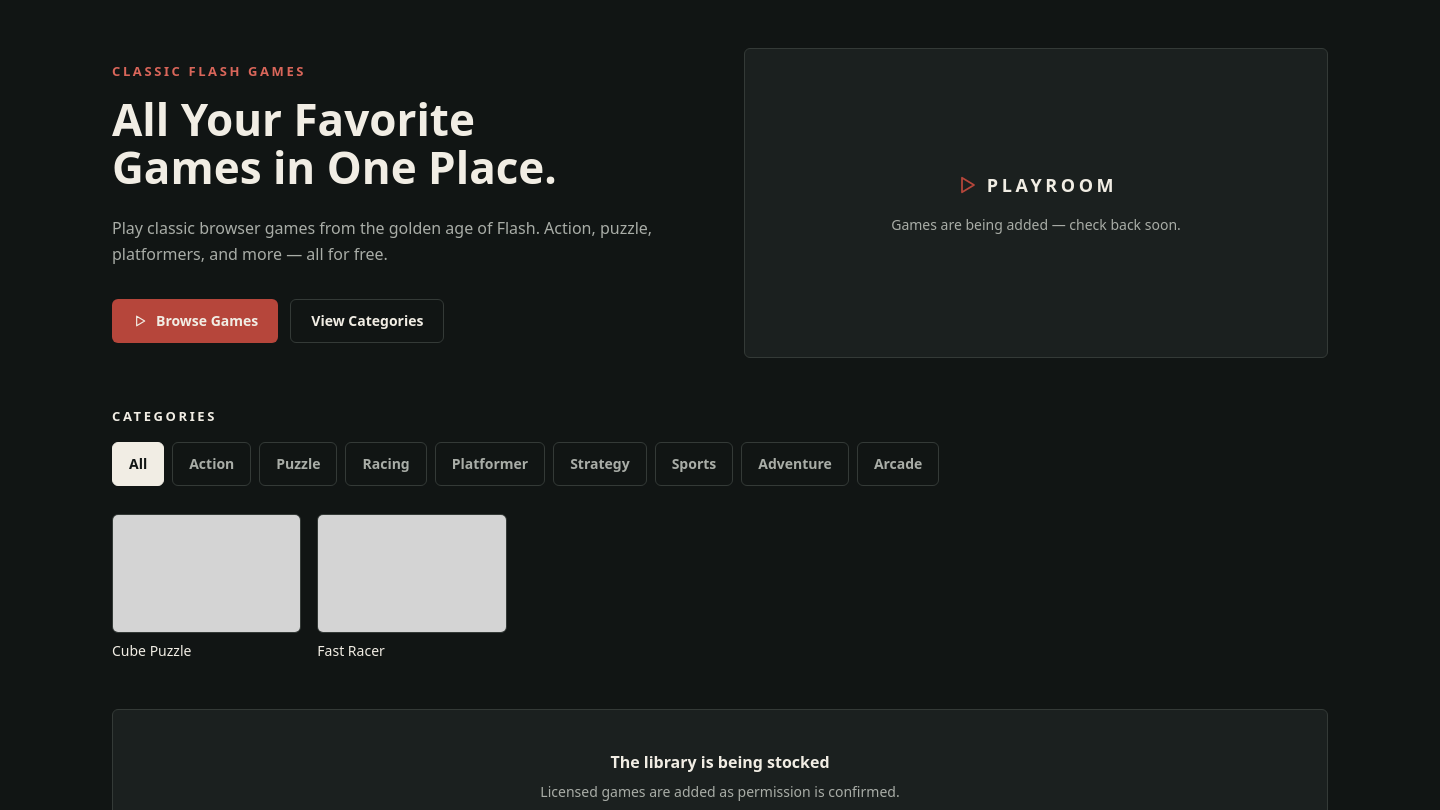
Test: HomePage › shows the selected category's games under the filter
What coordinates should you click on to do the following:
click the radio button labelled "Puzzle"
I would click on:
 (298, 464)
Its box is [259,442,338,486].
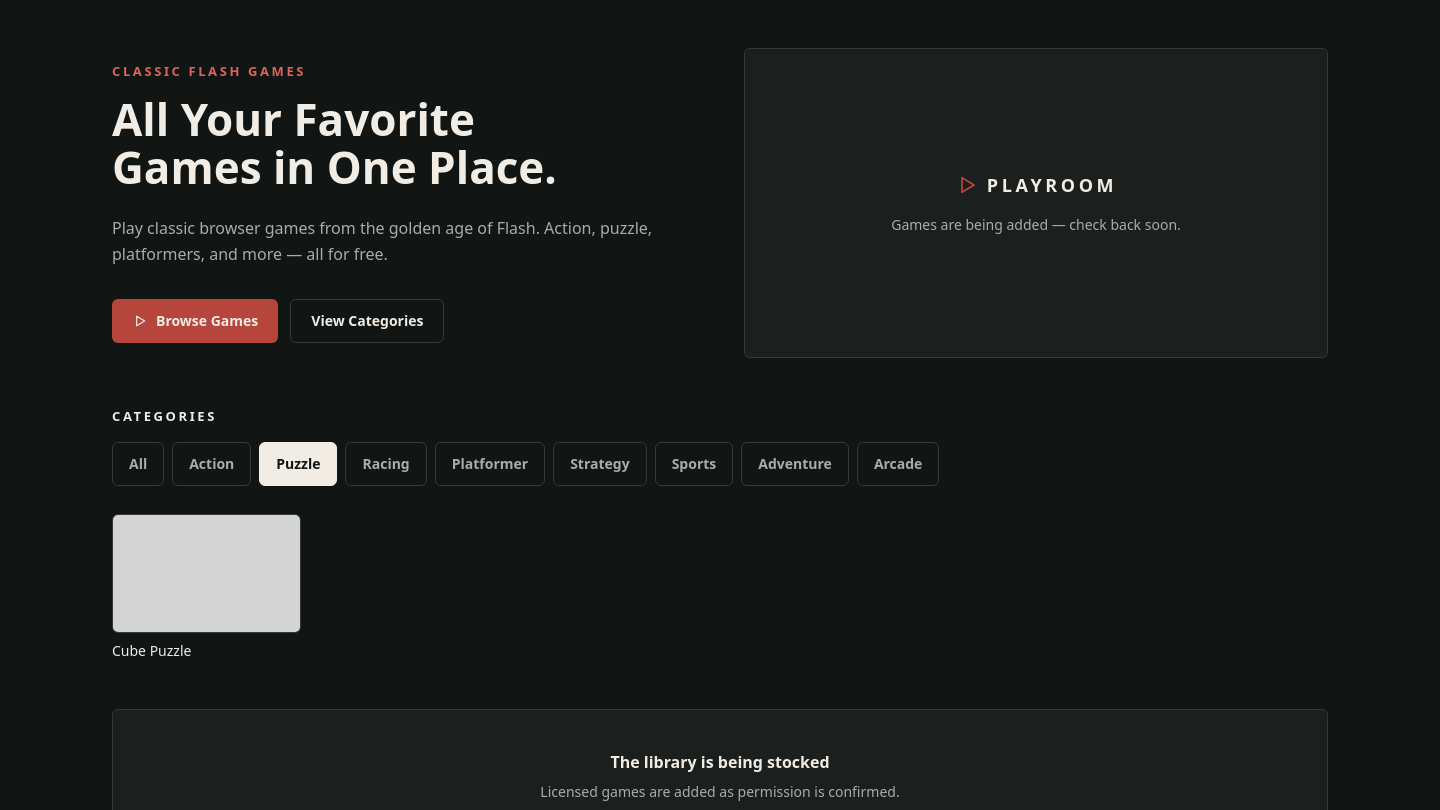
Expected: the link "Fast Racer" is gone
